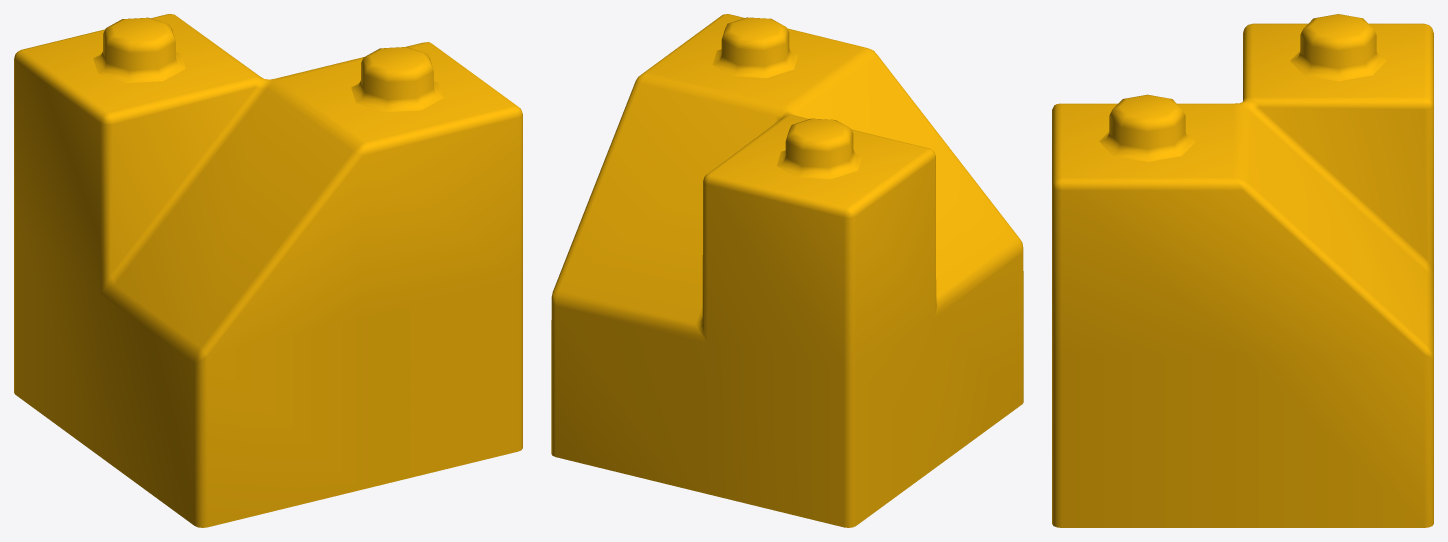
Rendered from Opposite_Bevel_Rotated.fbx.
The picture shows the model from 3 angles, left to right: view 1: azimuth 30°, elevation 25°; view 2: azimuth 150°, elevation 25°; view 3: azimuth 270°, elevation 25°; orthographic projection. The views are drawn at different scales.
Parts seen in each view (by area): view 1: Opposite_Bevel_Rotated, Knobs.035; view 2: Opposite_Bevel_Rotated, Knobs.035; view 3: Opposite_Bevel_Rotated, Knobs.035.
Boxes of the visible parts, box(x1,y1,x2,y2) form: Opposite_Bevel_Rotated: box(14, 14, 522, 527); Knobs.035: box(93, 17, 443, 112); Opposite_Bevel_Rotated: box(551, 14, 1023, 527); Knobs.035: box(712, 17, 862, 179); Opposite_Bevel_Rotated: box(1052, 23, 1433, 527); Knobs.035: box(1099, 14, 1386, 161).
Bounding box in the file's own units: 1 × 1.1 × 1.
